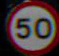Speed limit: (5, 2, 54, 48)
